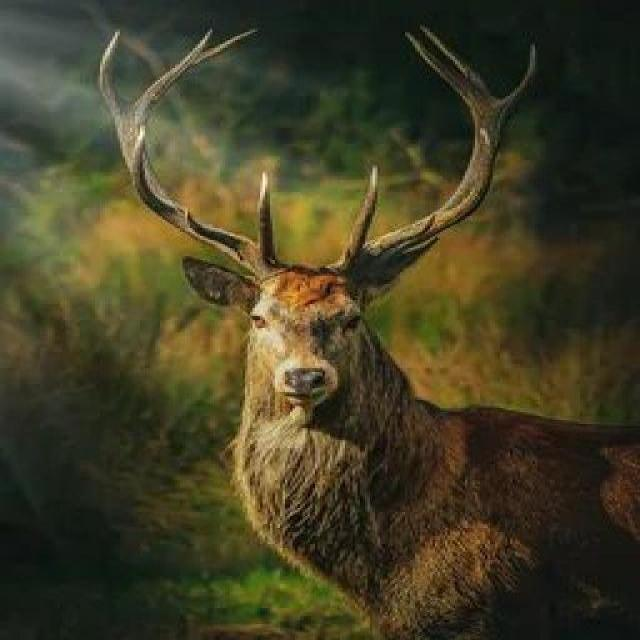deer: (98, 110, 640, 605)
